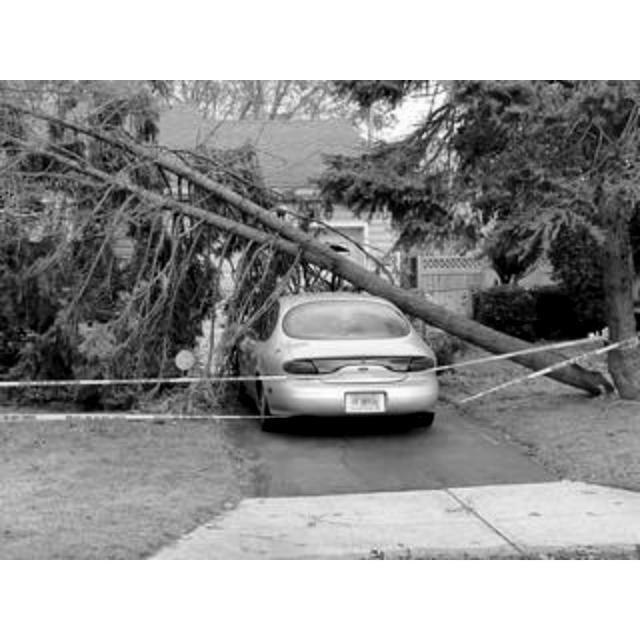roof-dent: (270, 280, 390, 314)
